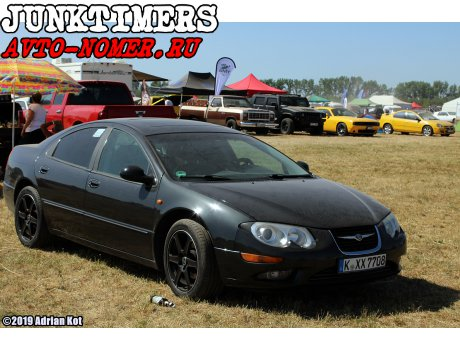License Plates: (340, 255, 384, 267)
